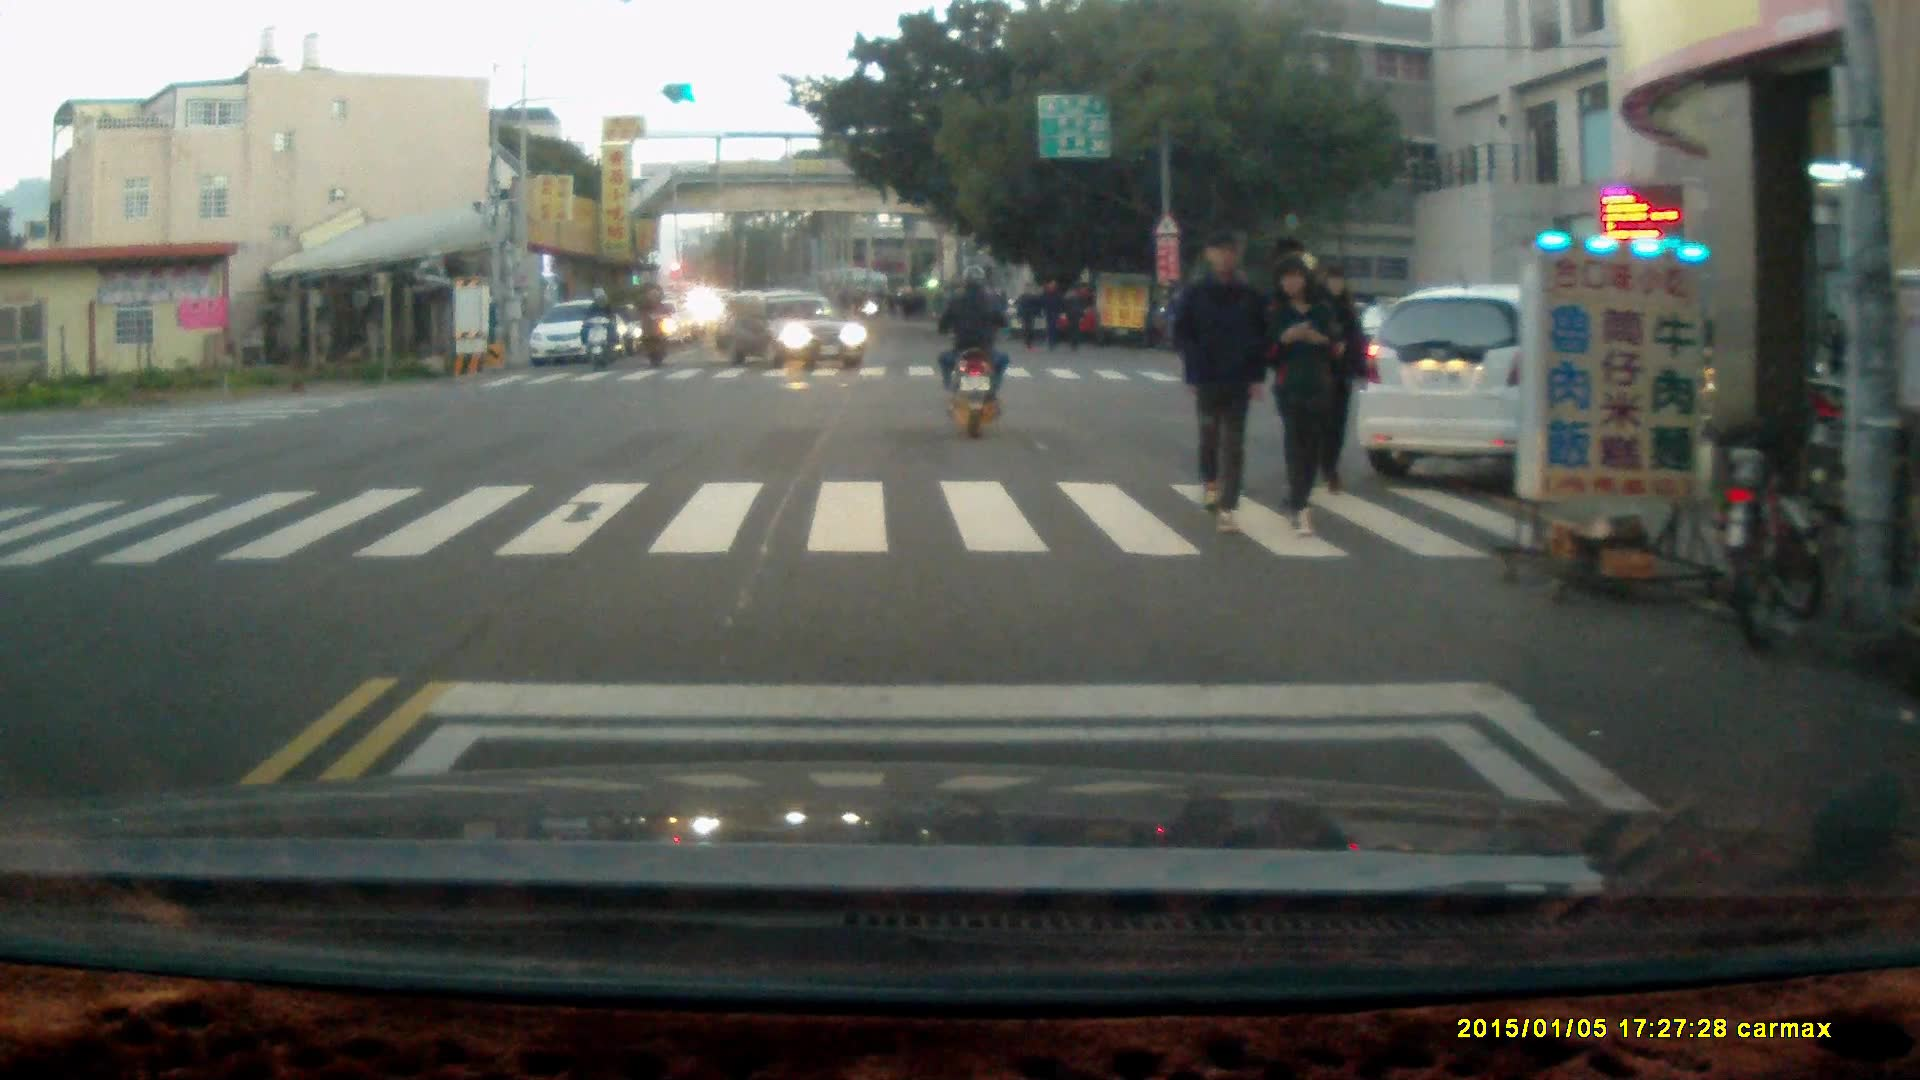pedestrian: (1168, 225, 1267, 533), (1262, 249, 1343, 532), (1037, 274, 1064, 351), (1057, 283, 1086, 352), (1014, 278, 1039, 348)
rider: (937, 259, 1007, 440), (634, 280, 674, 368), (580, 281, 616, 367)
vehicle: (1365, 291, 1755, 492), (718, 283, 868, 374), (530, 301, 628, 369)
